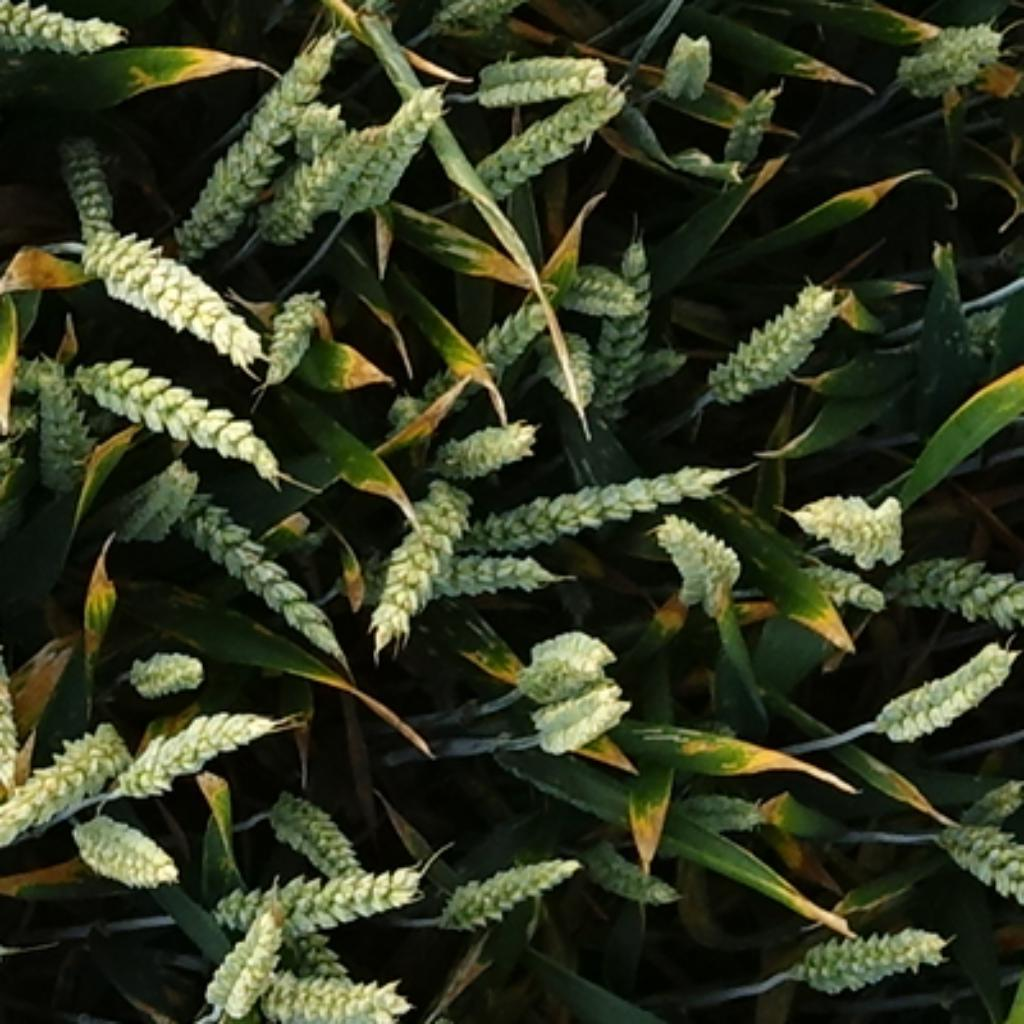0-0: (168, 25, 335, 245), (156, 486, 335, 663), (74, 337, 290, 482), (458, 455, 745, 552), (66, 209, 258, 350), (358, 476, 477, 653), (700, 273, 851, 411), (419, 279, 570, 407), (476, 66, 632, 189), (327, 81, 460, 220), (867, 627, 1021, 742), (204, 855, 432, 926), (364, 537, 581, 611), (112, 696, 276, 788), (0, 726, 128, 843), (284, 102, 378, 245), (581, 238, 657, 414), (439, 849, 590, 936), (785, 921, 952, 998), (885, 544, 1024, 629), (885, 13, 1009, 104), (256, 773, 368, 870), (248, 957, 409, 1024), (199, 901, 286, 1022), (512, 614, 617, 711), (519, 678, 634, 765), (79, 809, 192, 896), (460, 46, 611, 110), (789, 487, 909, 566), (650, 499, 747, 596), (21, 358, 86, 500), (930, 819, 1024, 911), (0, 2, 129, 69), (47, 122, 120, 235), (588, 833, 695, 907), (717, 79, 792, 182), (263, 279, 330, 391), (658, 786, 778, 848), (430, 404, 537, 473), (110, 453, 197, 537), (276, 910, 352, 1003), (581, 345, 691, 407), (542, 248, 647, 312), (542, 325, 599, 430), (403, 1, 525, 50), (281, 92, 366, 161), (934, 762, 1024, 824), (796, 565, 888, 624), (656, 31, 719, 111), (113, 646, 203, 700), (0, 649, 28, 812)
